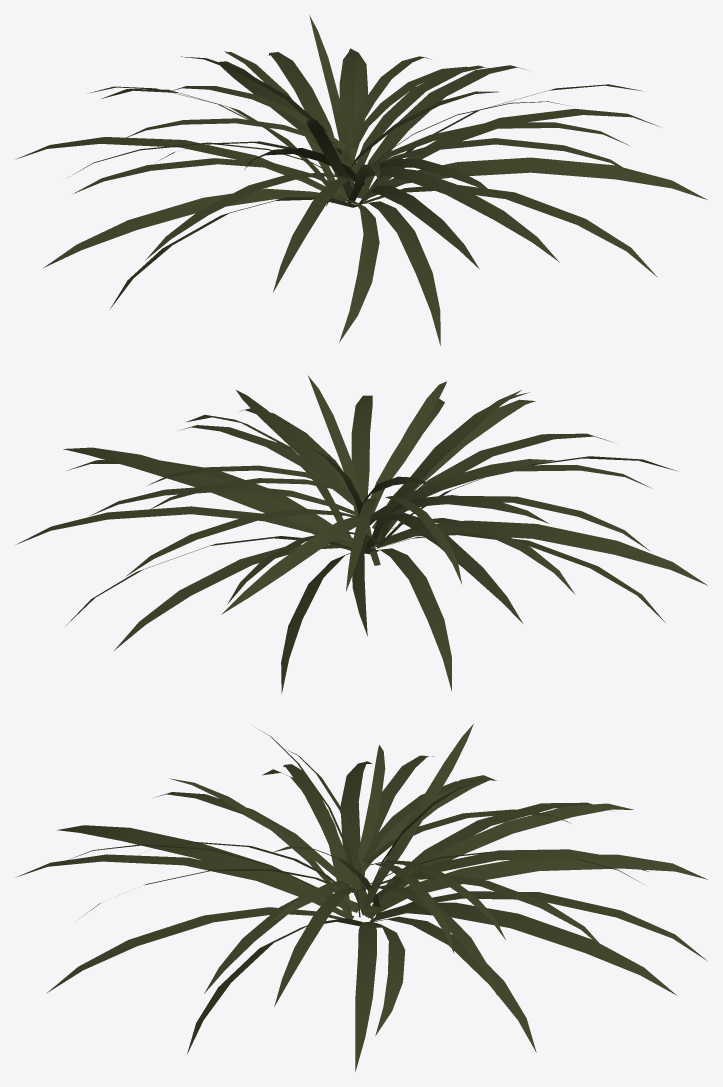
Rendered from SpiderPlant.obj.
The picture shows the model from 3 angles, top to bottom: view 1: azimuth 30°, elevation 25°; view 2: azimuth 150°, elevation 25°; view 3: azimuth 270°, elevation 25°; orthographic projection. The views are drawn at different scales.
Parts seen in each view (by area): view 1: Mesh29 Group1 Model, Mesh11 Group1 Model, Mesh34 Group1 Model, Mesh16 Group1 Model, Mesh30 Group1 Model, Mesh36 Group1 Model, Mesh20 Group1 Model, Mesh14 Group1 Model, Mesh33 Group1 Model, Mesh1 Group1 Model, Mesh21 Group1 Model, Mesh25 Group1 Model (+21 smaller); view 2: Mesh23 Group1 Model, Mesh17 Group1 Model, Mesh30 Group1 Model, Mesh36 Group1 Model, Mesh39 Group1 Model, Mesh15 Group1 Model, Mesh9 Group1 Model, Mesh12 Group1 Model, Mesh20 Group1 Model, Mesh2 Group1 Model, Mesh16 Group1 Model, Mesh26 Group1 Model (+24 smaller); view 3: Mesh35 Group1 Model, Mesh14 Group1 Model, Mesh7 Group1 Model, Mesh18 Group1 Model, Mesh16 Group1 Model, Mesh33 Group1 Model, Mesh20 Group1 Model, Mesh37 Group1 Model, Mesh13 Group1 Model, Mesh15 Group1 Model, Mesh36 Group1 Model, Mesh30 Group1 Model (+19 smaller).
Boxes of the visible parts, bbox=[...] form: Mesh29 Group1 Model: bbox=[368, 157, 707, 199]; Mesh11 Group1 Model: bbox=[43, 188, 345, 267]; Mesh34 Group1 Model: bbox=[366, 167, 558, 261]; Mesh16 Group1 Model: bbox=[356, 201, 440, 345]; Mesh30 Group1 Model: bbox=[16, 137, 347, 199]; Mesh36 Group1 Model: bbox=[357, 65, 526, 198]; Mesh20 Group1 Model: bbox=[361, 185, 656, 276]; Mesh14 Group1 Model: bbox=[339, 197, 379, 342]; Mesh33 Group1 Model: bbox=[361, 108, 659, 200]; Mesh1 Group1 Model: bbox=[369, 122, 629, 170]; Mesh21 Group1 Model: bbox=[362, 185, 479, 269]; Mesh25 Group1 Model: bbox=[145, 173, 345, 260]; Mesh23 Group1 Model: bbox=[377, 520, 707, 585]; Mesh17 Group1 Model: bbox=[63, 447, 352, 547]; Mesh30 Group1 Model: bbox=[371, 548, 451, 691]; Mesh36 Group1 Model: bbox=[16, 506, 351, 547]; Mesh39 Group1 Model: bbox=[221, 514, 358, 614]; Mesh15 Group1 Model: bbox=[114, 544, 350, 650]; Mesh9 Group1 Model: bbox=[369, 459, 555, 525]; Mesh12 Group1 Model: bbox=[372, 390, 521, 540]; Mesh20 Group1 Model: bbox=[351, 395, 372, 542]; Mesh2 Group1 Model: bbox=[386, 513, 522, 623]; Mesh16 Group1 Model: bbox=[375, 433, 613, 546]; Mesh26 Group1 Model: bbox=[236, 390, 354, 504]; Mesh35 Group1 Model: bbox=[375, 902, 676, 995]; Mesh14 Group1 Model: bbox=[57, 825, 361, 912]; Mesh7 Group1 Model: bbox=[368, 854, 707, 918]; Mesh18 Group1 Model: bbox=[385, 803, 633, 900]; Mesh16 Group1 Model: bbox=[16, 854, 354, 919]; Mesh33 Group1 Model: bbox=[355, 922, 376, 1071]; Mesh20 Group1 Model: bbox=[46, 907, 344, 993]; Mesh37 Group1 Model: bbox=[371, 849, 648, 902]; Mesh13 Group1 Model: bbox=[363, 724, 473, 908]; Mesh15 Group1 Model: bbox=[370, 891, 706, 960]; Mesh36 Group1 Model: bbox=[373, 916, 536, 1052]; Mesh30 Group1 Model: bbox=[365, 802, 612, 918].
Bounding box in the file's own units: 16.84 × 3.94 × 16.19.
